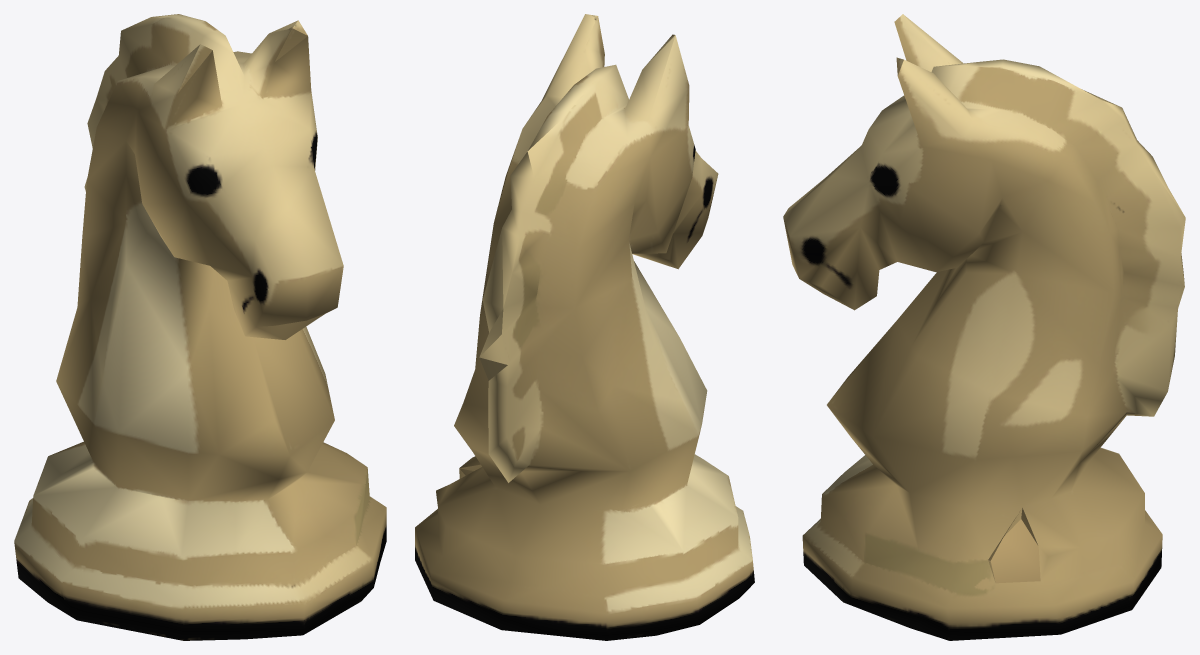
File: chess-knight-white.glb
The picture shows the model from 3 angles, left to right: view 1: azimuth 30°, elevation 25°; view 2: azimuth 150°, elevation 25°; view 3: azimuth 270°, elevation 25°; orthographic projection. The views are drawn at different scales.
Parts seen in each view (by area): view 1: geometry_0.001; view 2: geometry_0.001; view 3: geometry_0.001.
Part boxes in pixels (x1=…): geometry_0.001: x1=14, y1=14, x2=386, y2=640; geometry_0.001: x1=415, y1=14, x2=754, y2=640; geometry_0.001: x1=783, y1=14, x2=1185, y2=640.
Size of the model in its own units: 0.5959 by 0.9995 by 0.6875.
Materials: 1 (1 with a texture image).
